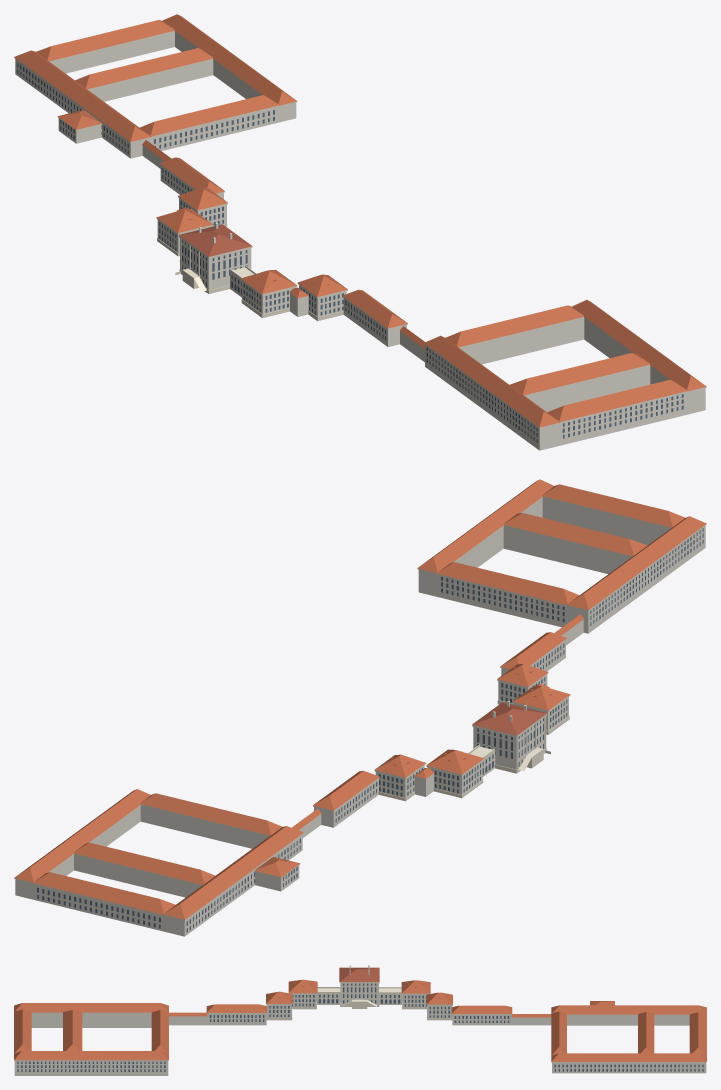
Rendered from munich-schloss-nymphenburg.glb.
3 renders of one model, top to bottom at view 1: azimuth 30°, elevation 25°; view 2: azimuth 150°, elevation 25°; view 3: azimuth 270°, elevation 25°, orthographic. The views are drawn at different scales.
Visible parts, largest first — view 1: Schloss Nymphenburg; view 2: Schloss Nymphenburg; view 3: Schloss Nymphenburg.
Boxes of the visible parts, left/top/right/bottom form: Schloss Nymphenburg: left=14, top=14, right=706, bottom=450; Schloss Nymphenburg: left=14, top=479, right=706, bottom=936; Schloss Nymphenburg: left=14, top=965, right=706, bottom=1075.
Size of the model in its own units: 184 by 32.17 by 633.
